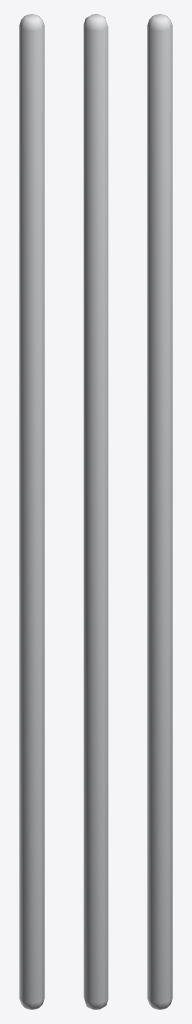
Rendered from heating_equipment_stirring_stick.glb.
3 views of the same model, side by side, from view 1: azimuth 90°, elevation 25°; view 2: azimuth 210°, elevation 25°; view 3: azimuth 270°, elevation 25° (orthographic).
Parts seen in each view (by area): view 1: heating_equipment_stirring_stick; view 2: heating_equipment_stirring_stick; view 3: heating_equipment_stirring_stick.
Part boxes in pixels (box(x1,y1,x2,y2)): heating_equipment_stirring_stick: box(19, 14, 44, 1009); heating_equipment_stirring_stick: box(83, 14, 108, 1009); heating_equipment_stirring_stick: box(147, 14, 172, 1009).
Bounding box in the file's own units: 0.745 × 31.84 × 0.745.
Materials: 1 (1 with a texture image).
